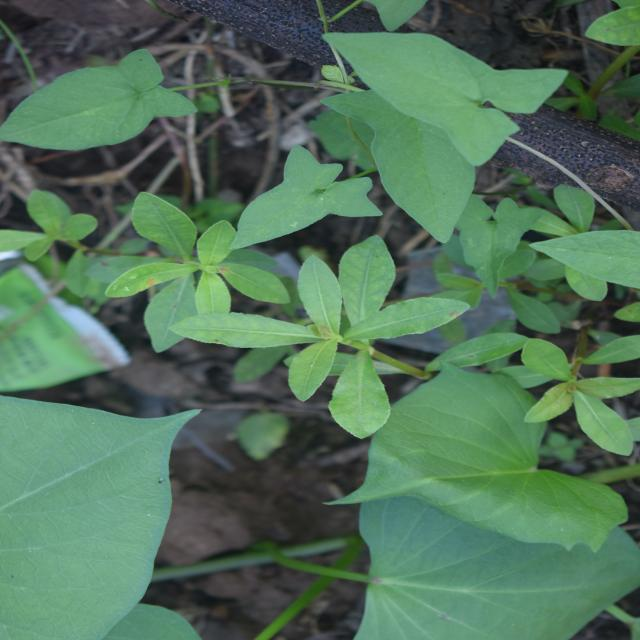Alligatorweed: (210, 212, 405, 457), (296, 89, 472, 250)
